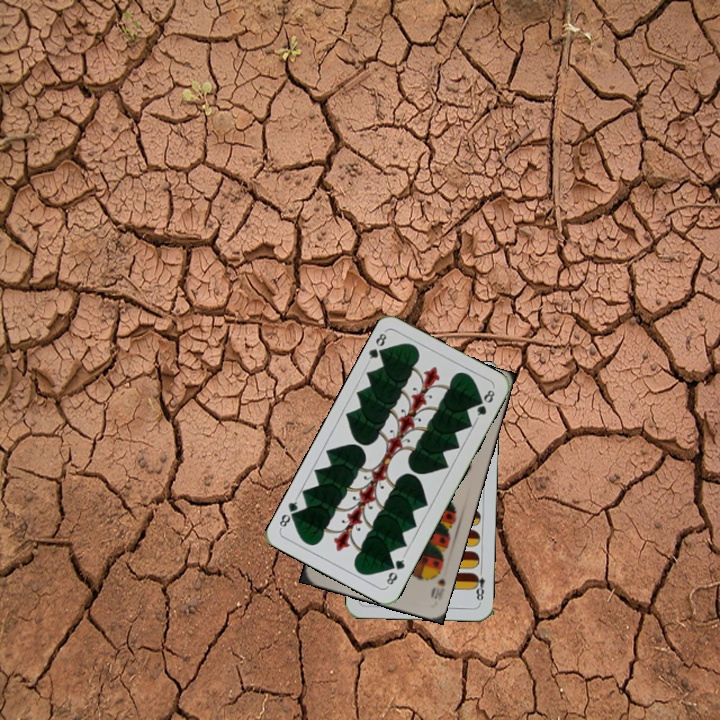E8: (470, 565, 487, 605)
G8: (364, 329, 390, 365), (382, 552, 407, 589)
S10: (426, 564, 448, 602)
